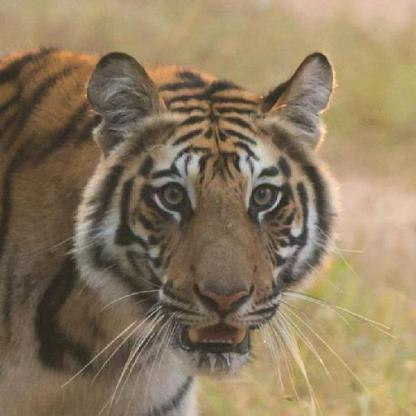tiger: (95, 58, 346, 352)
